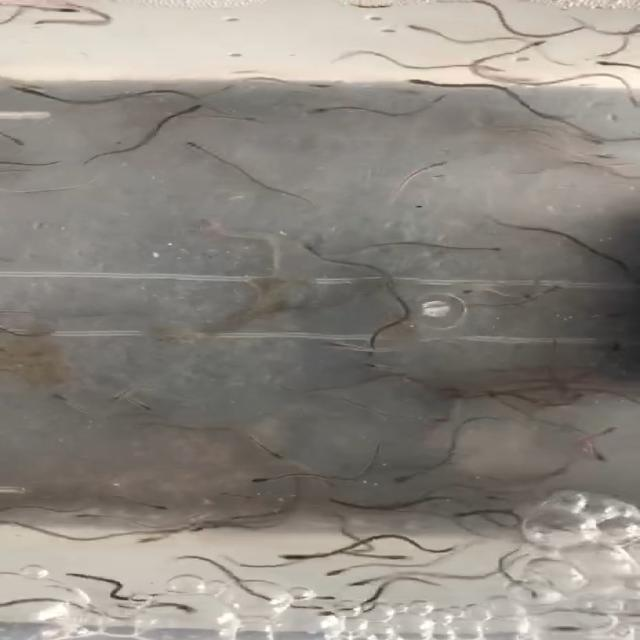active_glass_eel: (590, 450, 625, 478), (276, 548, 329, 566), (43, 91, 92, 110), (545, 281, 583, 304), (501, 35, 547, 53), (147, 98, 202, 113), (136, 400, 172, 420), (424, 73, 466, 90), (171, 139, 208, 158), (319, 102, 366, 116), (252, 447, 292, 463), (132, 534, 177, 548), (477, 241, 511, 258), (408, 159, 444, 175), (285, 240, 322, 255), (299, 592, 345, 604), (98, 389, 137, 403), (600, 57, 632, 74), (590, 247, 620, 265), (75, 508, 104, 526), (200, 217, 227, 236), (388, 471, 417, 488), (589, 421, 618, 438), (0, 504, 40, 516), (455, 283, 488, 297), (361, 356, 391, 371), (300, 600, 326, 617), (342, 606, 373, 620), (252, 472, 282, 486), (33, 3, 71, 14), (556, 391, 584, 405), (180, 602, 203, 619), (403, 21, 435, 33), (49, 393, 74, 408), (347, 578, 379, 588), (586, 138, 614, 149), (134, 501, 168, 510), (322, 568, 350, 578), (469, 0, 497, 8)
